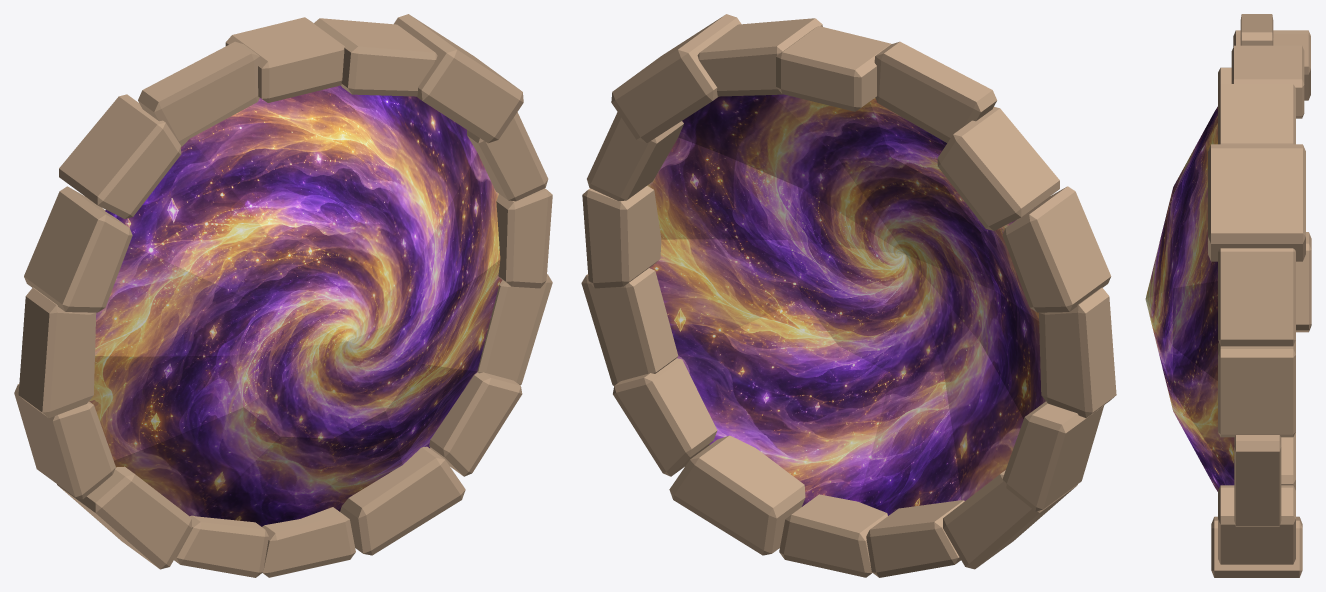
Rendered from Portal.fbx.
3 renders of one model, left to right at view 1: azimuth 30°, elevation 25°; view 2: azimuth 150°, elevation 25°; view 3: azimuth 270°, elevation 25°, orthographic. The views are drawn at different scales.
Visible parts, largest first — view 1: Circle001, Box009; view 2: Circle001, Box009; view 3: Box009, Circle001.
Part boxes in pixels (x1,y1,x2,y2): Circle001: [89, 85, 502, 526]; Box009: [14, 14, 552, 577]; Circle001: [647, 94, 1045, 515]; Box009: [581, 14, 1116, 577]; Box009: [1208, 14, 1311, 577]; Circle001: [1145, 106, 1234, 491].
Size of the model in its own units: 138 by 41.35 by 134.
Materials: 2 (2 with a texture image).
